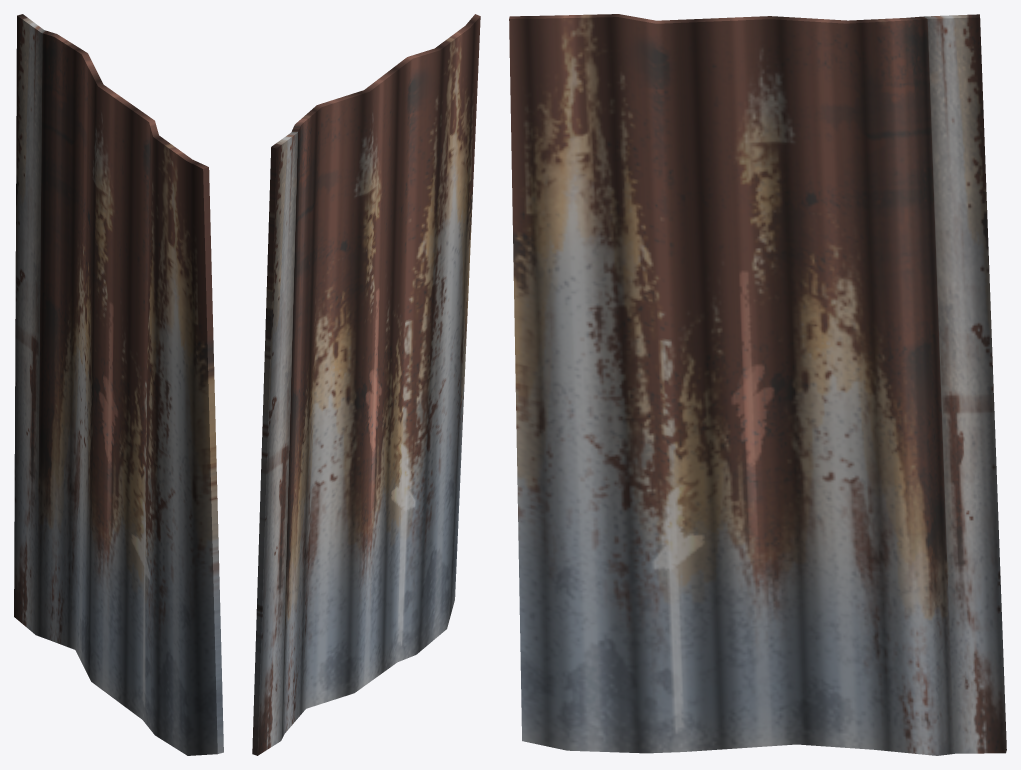
The model's file is raisedBed_dressing_metal.fbx.
3 renders of one model, left to right at view 1: azimuth 30°, elevation 25°; view 2: azimuth 150°, elevation 25°; view 3: azimuth 270°, elevation 25°, orthographic. The views are drawn at different scales.
Parts seen in each view (by area): view 1: raisedBed_dressing_metal; view 2: raisedBed_dressing_metal; view 3: raisedBed_dressing_metal.
Part boxes in pixels (<box>): raisedBed_dressing_metal: <box>14,14,223,755</box>; raisedBed_dressing_metal: <box>252,14,480,755</box>; raisedBed_dressing_metal: <box>509,14,1006,755</box>.
Size of the model in its own units: 8.29 by 140 by 85.47.
